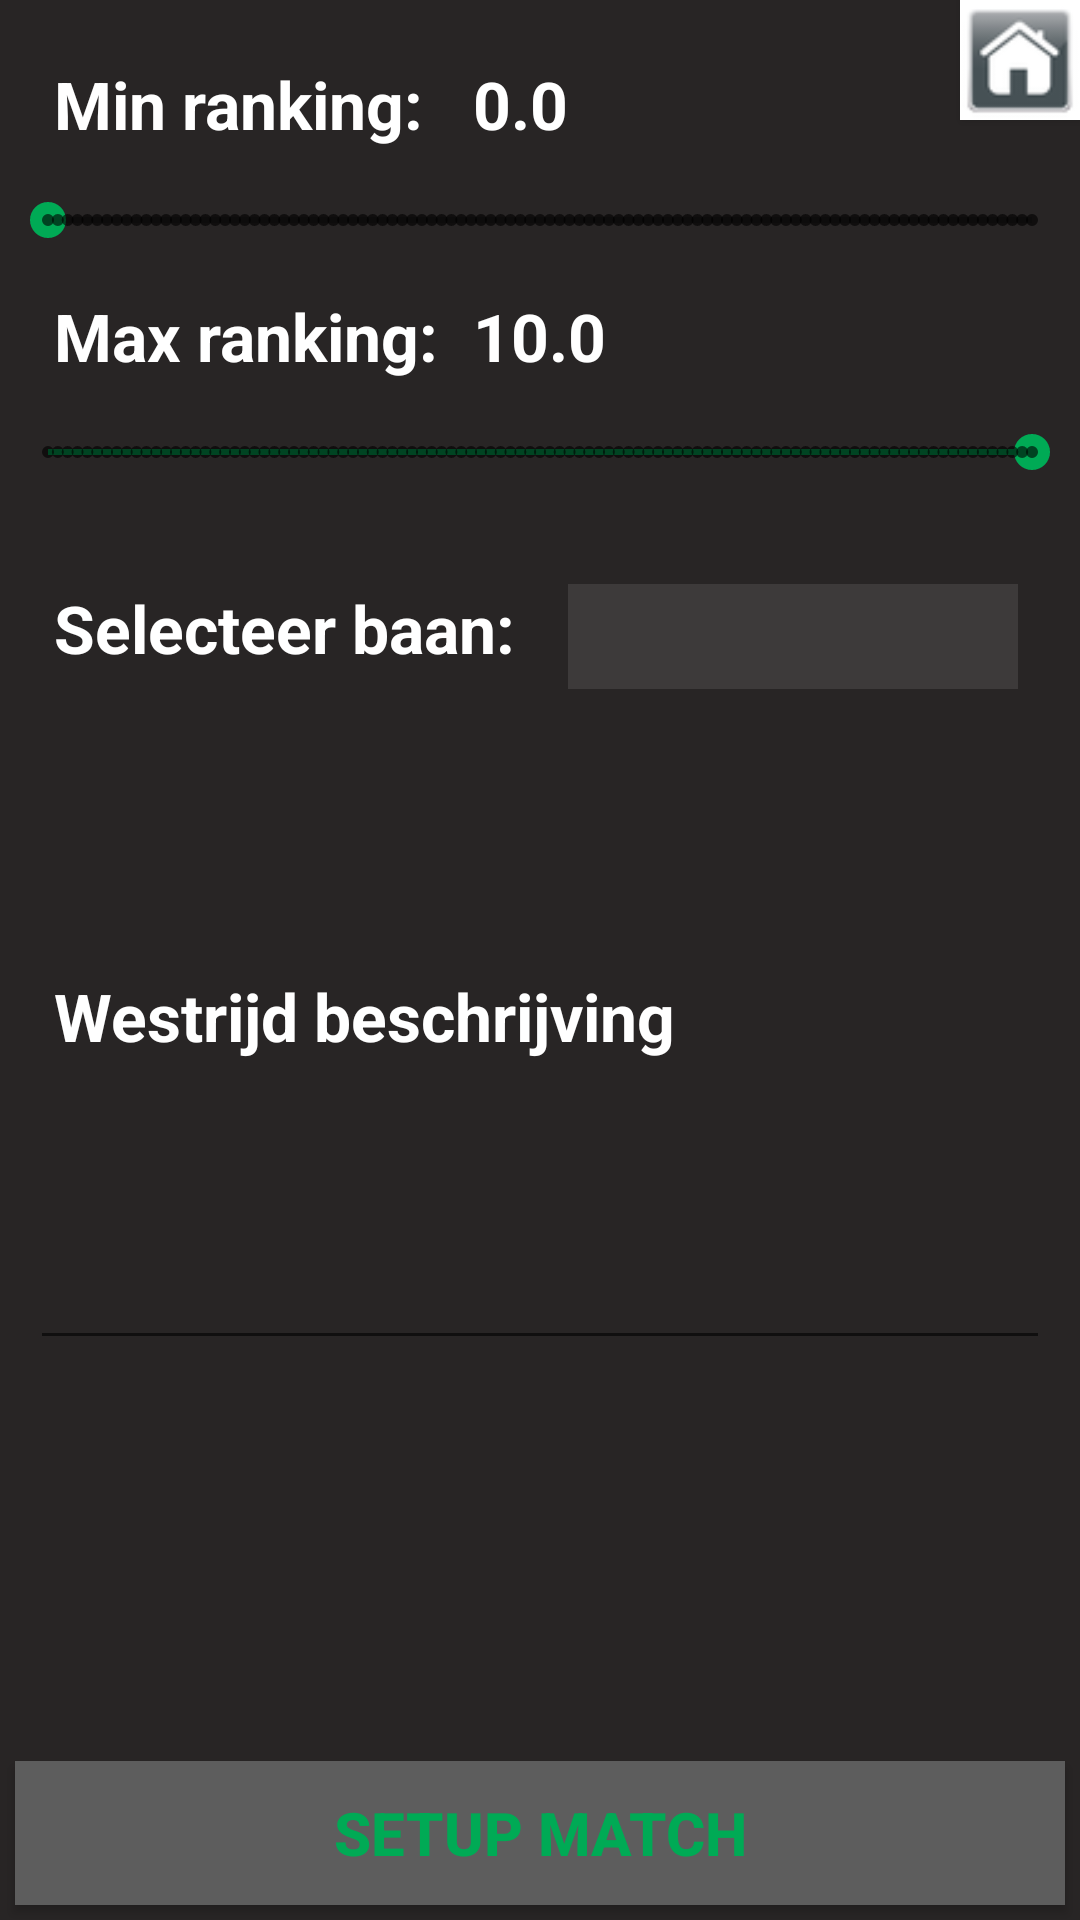

Screen size 1080px×1920px. Icon name, then its center in pixels as (x,y):
home: (1020,60)
